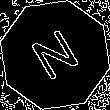N_SE: (25, 23, 85, 87)
